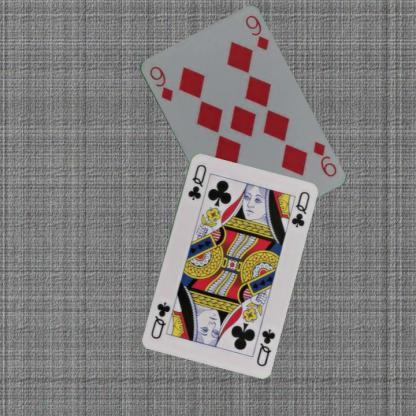9d: (146, 63, 175, 103), (310, 138, 338, 179)
Qc: (254, 326, 276, 367), (185, 161, 207, 201)
